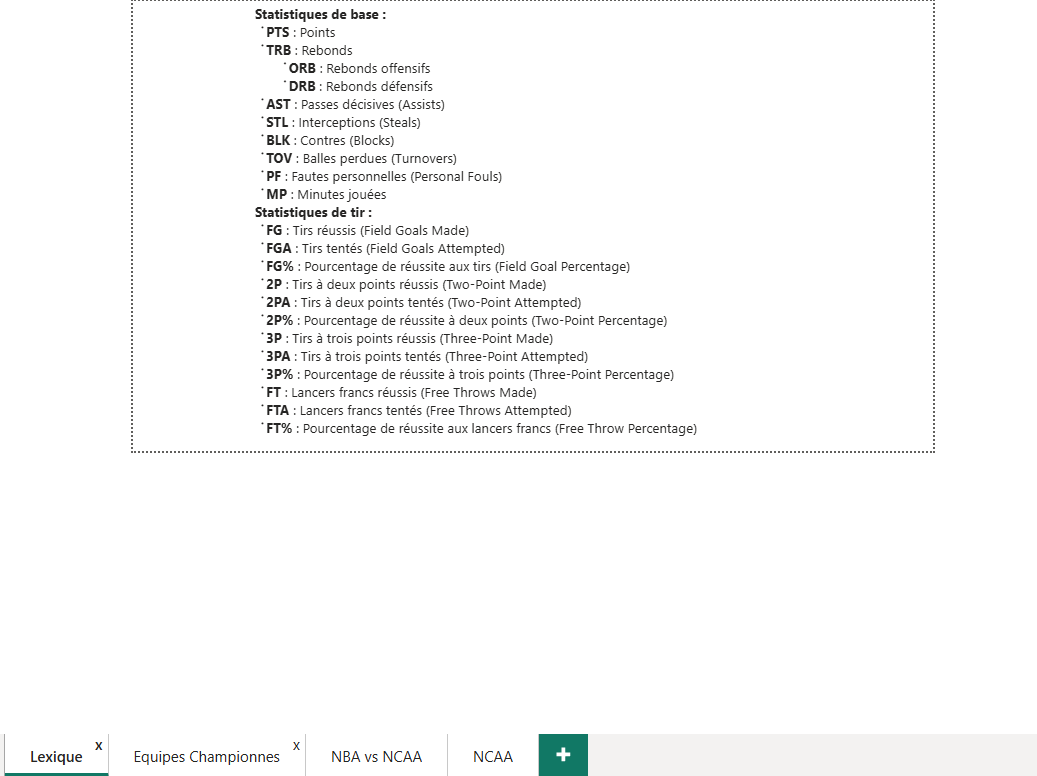

What the dashboard file says about the page in this screenshot:
{"tool":"powerbi","page":{"name":"Lexique","canvas":[1280,720],"ordinal":0},"visuals":[{"type":"textbox","box":[190,0,900,720],"z":0}]}

Visuals, with their boxes on the page's 1280x720 design canvas (x1, y1, x2, y2). These are canvas units, not pixel positions in the 1037x776 screenshot, which may show the page scaled, cropped or inside an application window:
textbox: [left=190, top=0, right=1090, bottom=720]
